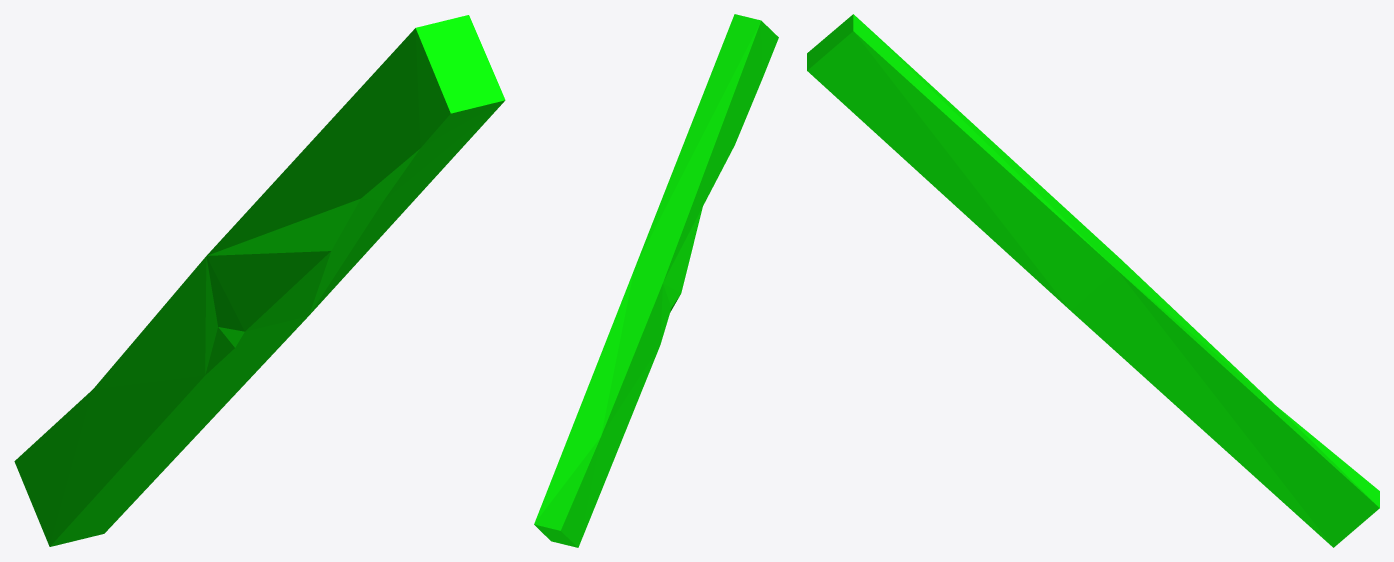
File: SM_Roof_Regular_Truss_Wood_Diagonal_2m.fbx
The picture shows the model from 3 angles, left to right: view 1: azimuth 30°, elevation 25°; view 2: azimuth 150°, elevation 25°; view 3: azimuth 270°, elevation 25°; orthographic projection. The views are drawn at different scales.
Visible parts, largest first — view 1: roof-regular-truss-wood-diagonal-2m; view 2: roof-regular-truss-wood-diagonal-2m; view 3: roof-regular-truss-wood-diagonal-2m.
Boxes of the visible parts, x1,y1,x2,y2 form: roof-regular-truss-wood-diagonal-2m: [14, 15, 505, 546]; roof-regular-truss-wood-diagonal-2m: [534, 14, 778, 547]; roof-regular-truss-wood-diagonal-2m: [807, 14, 1379, 547].
Size of the model in its own units: 0.1941 by 2.16 by 2.18.
